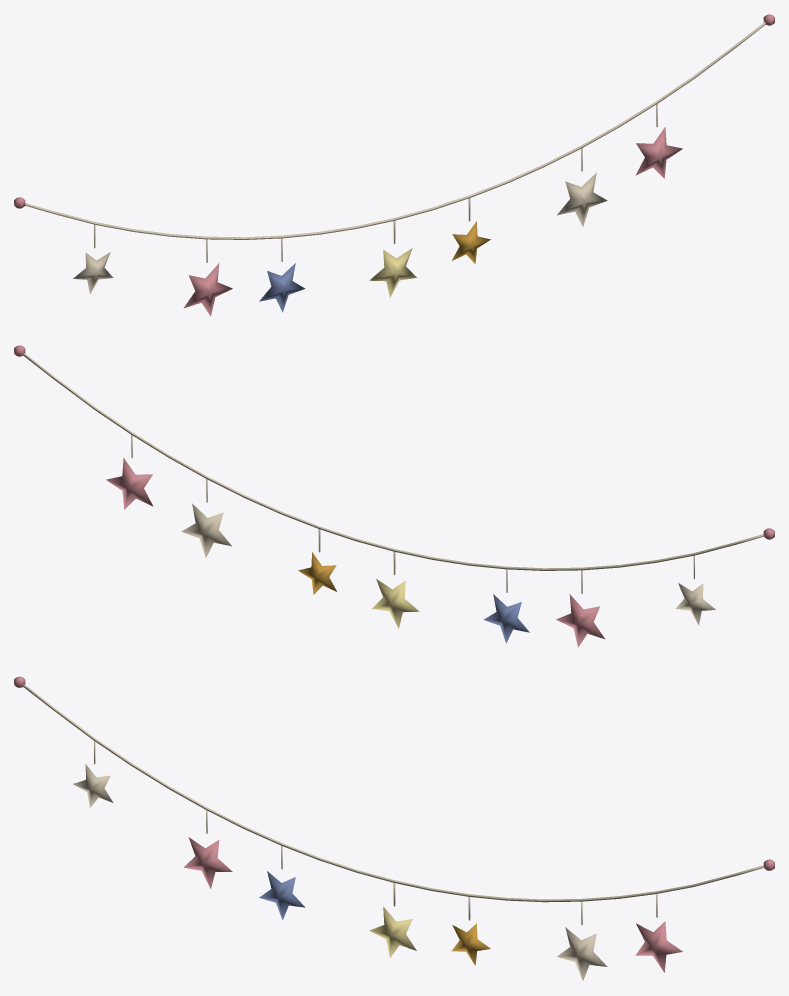
Rendered from star_garland.glb.
The picture shows the model from 3 angles, top to bottom: view 1: azimuth 30°, elevation 25°; view 2: azimuth 150°, elevation 25°; view 3: azimuth 330°, elevation 25°; orthographic projection.
Parts seen in each view (by area): view 1: stars, star_garland; view 2: stars, star_garland; view 3: stars, star_garland.
Boxes of the visible parts, left/top/right/bottom form: stars: left=73, top=104, right=682, bottom=316; star_garland: left=14, top=14, right=774, bottom=239; stars: left=106, top=435, right=715, bottom=647; star_garland: left=14, top=345, right=774, bottom=570; stars: left=73, top=741, right=682, bottom=980; star_garland: left=14, top=676, right=774, bottom=902.
Bounding box in the file's own units: 1.62 × 0.3907 × 0.024.
